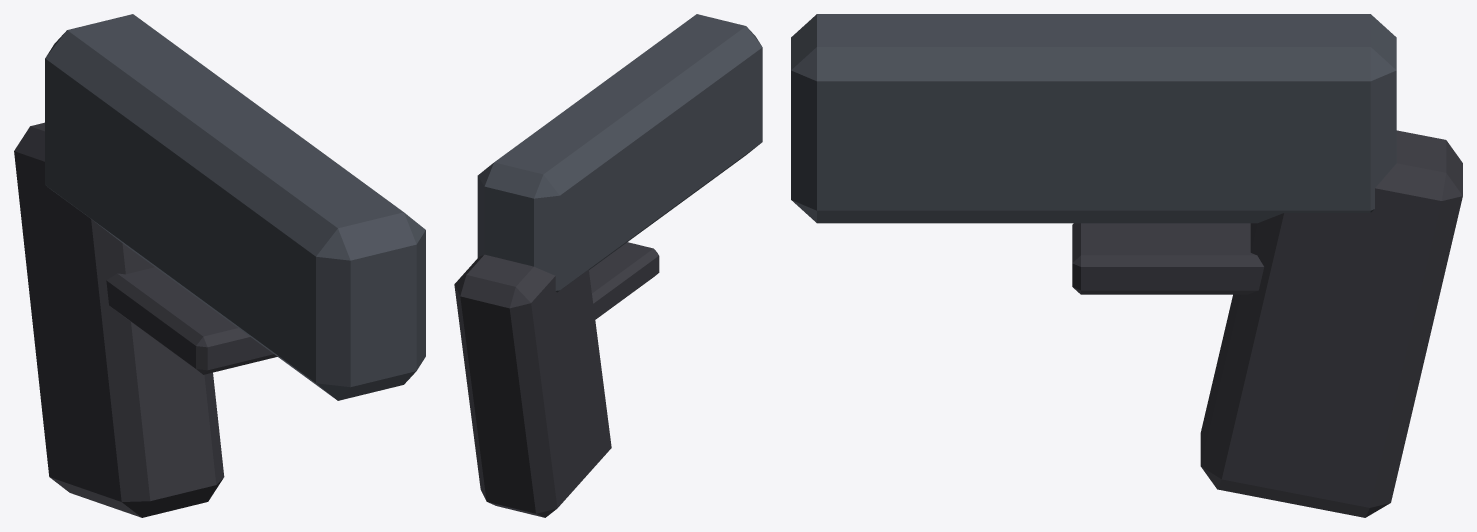
The model's file is Pistol.fbx.
3 views of the same model, side by side, from view 1: azimuth 30°, elevation 25°; view 2: azimuth 150°, elevation 25°; view 3: azimuth 270°, elevation 25° (orthographic). The views are drawn at different scales.
Visible parts, largest first — view 1: Pistol; view 2: Pistol; view 3: Pistol.
Boxes of the visible parts, x1,y1,x2,y2 form: Pistol: (14, 14, 425, 517); Pistol: (454, 14, 762, 517); Pistol: (791, 14, 1462, 517).
Size of the model in its own units: 0.3 by 1.2 by 1.55.
Materials: 1 (1 with a texture image).
